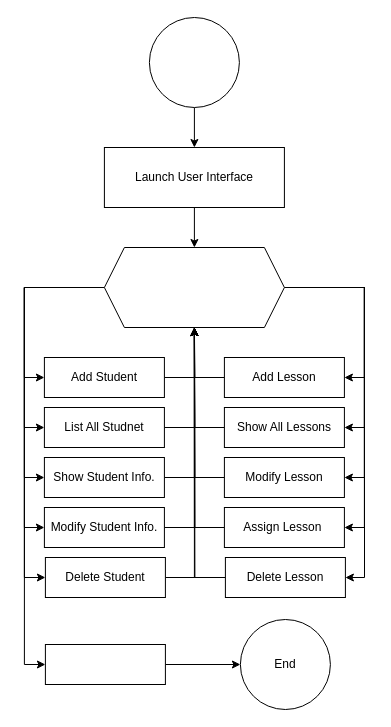
This 391x727 diagram has some shape labels left out. The centre of each missing label's shape, as x and y in pixels:
Close Program: the point at 104,664
Functions: the point at 193,287
Start: the point at 193,62
